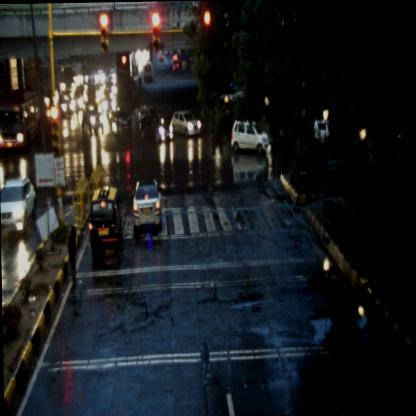bus: (0, 90, 41, 153)
car: (88, 183, 122, 259), (0, 177, 37, 237), (131, 178, 162, 238), (229, 118, 269, 154), (139, 115, 173, 144), (169, 109, 200, 138)
